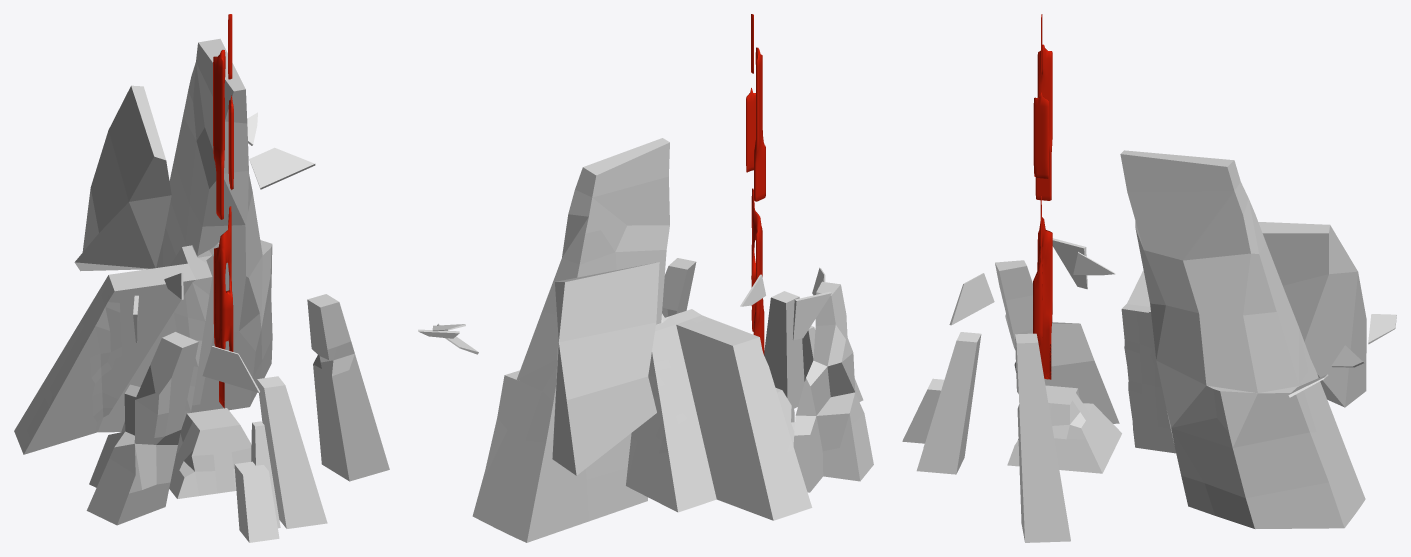
File: level_iceberg.fbx
3 views of the same model, side by side, from view 1: azimuth 30°, elevation 25°; view 2: azimuth 150°, elevation 25°; view 3: azimuth 270°, elevation 25° (orthographic). The views are drawn at different scales.
Visible parts, largest first — view 1: Cube.053, Cube.054, Cube.051, Cube.058, Cube.059, Cube.060, Cube.052, Cube.061, Plane.024, Plane.025, Cube.050, Cube.056; view 2: Cube.054, Cube.053, Cube.051, Cube.058, Cube.060, Plane.024, Cube.059, Plane.025, Cube.057, Cube.061; view 3: Cube.054, Cube.051, Cube.059, Cube.058, Cube.053, Cube.060, Cube.052, Plane.024, Plane.025, Cube.056, Cube.061, Cube.057 (+1 smaller).
Boxes of the visible parts, <box> form: Cube.053: <box>14,242,226,454</box>; Cube.054: <box>156,38,272,412</box>; Cube.051: <box>74,85,171,271</box>; Cube.058: <box>86,332,198,525</box>; Cube.059: <box>307,294,389,481</box>; Cube.060: <box>257,376,327,528</box>; Cube.052: <box>169,408,251,498</box>; Cube.061: <box>234,421,280,542</box>; Plane.024: <box>213,14,233,219</box>; Plane.025: <box>213,206,233,408</box>; Cube.050: <box>249,147,315,189</box>; Cube.056: <box>202,346,259,392</box>; Cube.054: <box>472,138,669,542</box>; Cube.053: <box>626,309,812,520</box>; Cube.051: <box>552,262,659,475</box>; Cube.058: <box>793,281,873,492</box>; Cube.060: <box>764,291,804,408</box>; Plane.024: <box>746,14,765,201</box>; Cube.059: <box>662,258,696,317</box>; Plane.025: <box>751,188,764,355</box>; Cube.057: <box>793,291,831,340</box>; Cube.061: <box>802,325,863,401</box>; Cube.054: <box>1120,150,1365,529</box>; Cube.051: <box>1258,222,1366,407</box>; Cube.059: <box>1015,333,1070,542</box>; Cube.058: <box>995,260,1119,423</box>; Cube.053: <box>1121,270,1175,453</box>; Cube.060: <box>916,332,981,474</box>; Cube.052: <box>1007,385,1121,473</box>; Plane.024: <box>1033,14,1052,200</box>; Plane.025: <box>1033,195,1052,379</box>; Cube.056: <box>949,273,994,325</box>; Cube.061: <box>902,378,944,447</box>; Cube.057: <box>1052,238,1087,289</box>.
Bounding box in the file's own units: 5661 × 7455 × 7285.
